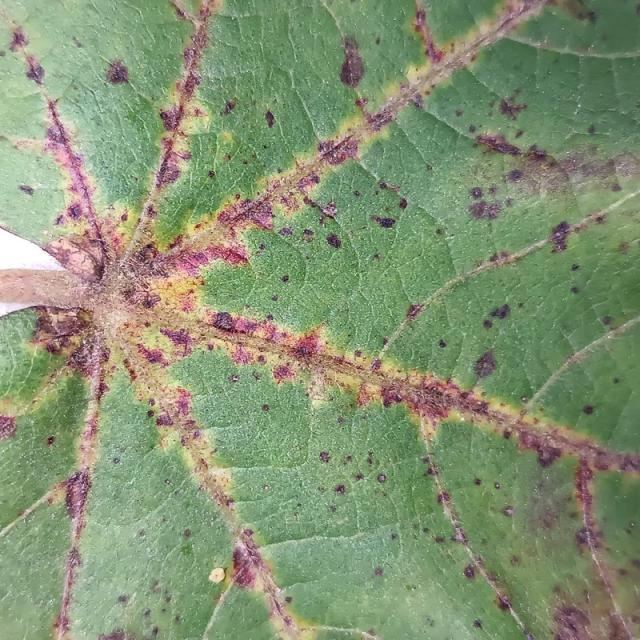Bacterial_Blight: (383, 371, 475, 421), (42, 233, 107, 278), (525, 477, 572, 535), (571, 455, 600, 547), (32, 307, 91, 349), (229, 540, 265, 589), (63, 468, 92, 519), (318, 134, 360, 166), (552, 601, 591, 635), (339, 36, 365, 86), (302, 192, 340, 225), (474, 132, 525, 156), (154, 151, 185, 189), (470, 197, 506, 227), (156, 326, 193, 354), (365, 107, 398, 134), (473, 348, 499, 380), (355, 380, 383, 408), (611, 153, 640, 180), (497, 96, 528, 121), (158, 104, 183, 133), (548, 220, 572, 250), (105, 59, 131, 86), (247, 205, 275, 230), (229, 343, 258, 367), (535, 445, 561, 468), (380, 384, 404, 408), (25, 60, 47, 86), (8, 28, 30, 52), (423, 38, 442, 65), (233, 316, 259, 335), (0, 413, 18, 440), (212, 312, 235, 332), (222, 247, 247, 265), (135, 243, 157, 263), (488, 303, 511, 321), (273, 364, 294, 383), (143, 348, 165, 365), (66, 547, 82, 570), (371, 215, 396, 229), (620, 457, 639, 473), (405, 303, 422, 320), (219, 99, 236, 116), (505, 169, 524, 184), (326, 233, 342, 249), (497, 594, 512, 611), (66, 204, 82, 219), (218, 130, 234, 145), (141, 295, 158, 309), (155, 414, 173, 427), (18, 183, 36, 196), (295, 344, 312, 357), (265, 110, 276, 128), (301, 228, 315, 242), (463, 565, 476, 579), (437, 492, 451, 505), (470, 186, 483, 199), (369, 358, 382, 371), (415, 10, 426, 25), (501, 505, 514, 517), (319, 451, 331, 463), (582, 404, 595, 415), (279, 226, 293, 236), (397, 198, 408, 210), (602, 315, 614, 326), (586, 11, 598, 22), (334, 484, 346, 494), (45, 435, 55, 447), (482, 319, 493, 329), (473, 618, 483, 629), (611, 183, 623, 192), (117, 595, 128, 604), (354, 472, 364, 481), (377, 473, 386, 483), (587, 124, 596, 134), (366, 628, 376, 637), (281, 274, 290, 283), (374, 567, 383, 576), (438, 339, 447, 348), (473, 477, 482, 486), (146, 409, 155, 418), (454, 109, 463, 118), (225, 498, 234, 507), (570, 263, 580, 271), (183, 528, 191, 538), (261, 404, 270, 412), (570, 286, 579, 294), (230, 374, 239, 382), (329, 505, 337, 513), (271, 295, 279, 302), (208, 170, 215, 178), (284, 596, 292, 603), (112, 457, 120, 464), (390, 533, 398, 540), (614, 377, 621, 384), (494, 482, 501, 489), (164, 478, 171, 485), (263, 484, 270, 491), (637, 522, 640, 528)
Cotton: (0, 0, 639, 639)
